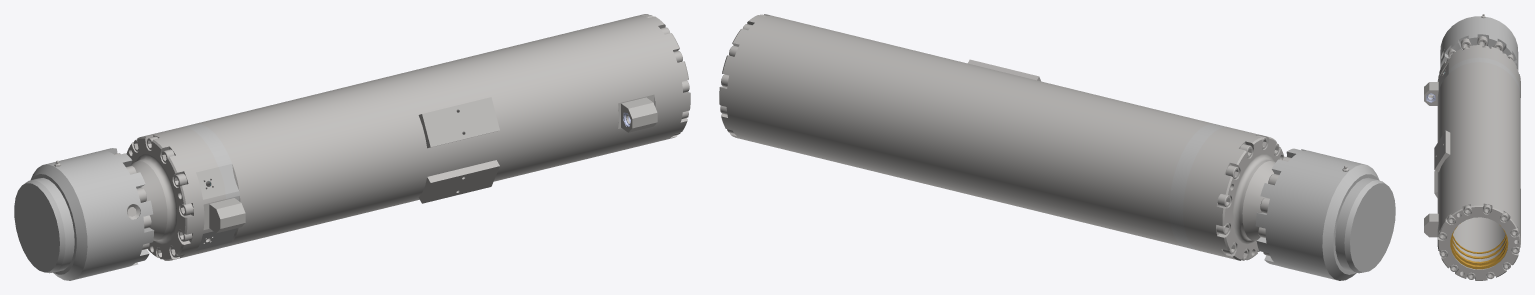
Rendered from (ReefCutter) rbs-tc-190-ca-00 bar.glb.
The picture shows the model from 3 angles, left to right: view 1: azimuth 30°, elevation 25°; view 2: azimuth 150°, elevation 25°; view 3: azimuth 270°, elevation 25°; orthographic projection. The views are drawn at different scales.
Visible parts, largest first — view 1: Solid4; view 2: Solid4; view 3: Solid4.
Part boxes in pixels (x1=…): Solid4: x1=14, y1=14, x2=690, y2=280; Solid4: x1=719, y1=14, x2=1395, y2=280; Solid4: x1=1424, y1=14, x2=1520, y2=280.
Bounding box in the file's own units: 1.35 × 0.2418 × 0.279.
